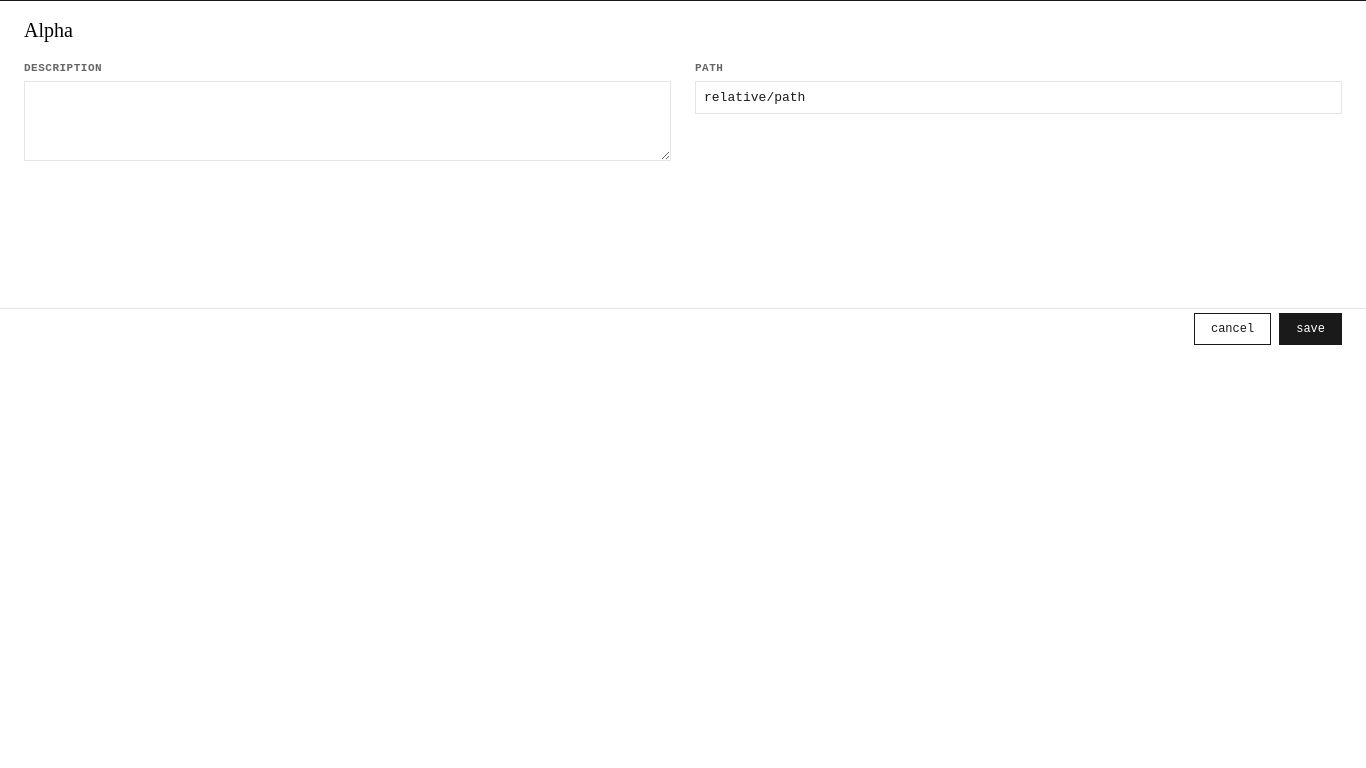
Test case: 项目编辑面板 › 路径非法时就地显示错误，不保存也不 alert
Click the button "save" at (1311, 329), box [1279, 313, 1342, 345]
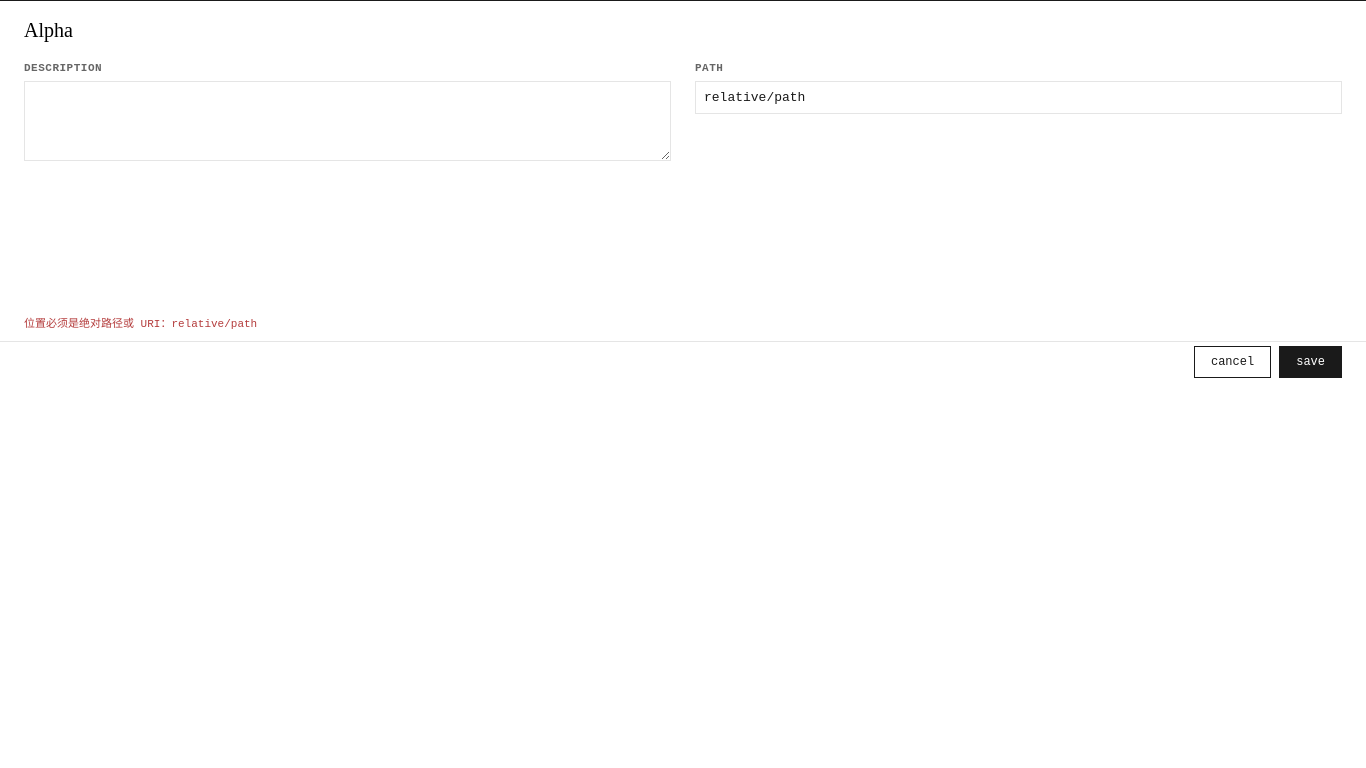
Result: the message shows "位置必须是绝对路径或 URI" at [24, 318, 257, 330]
